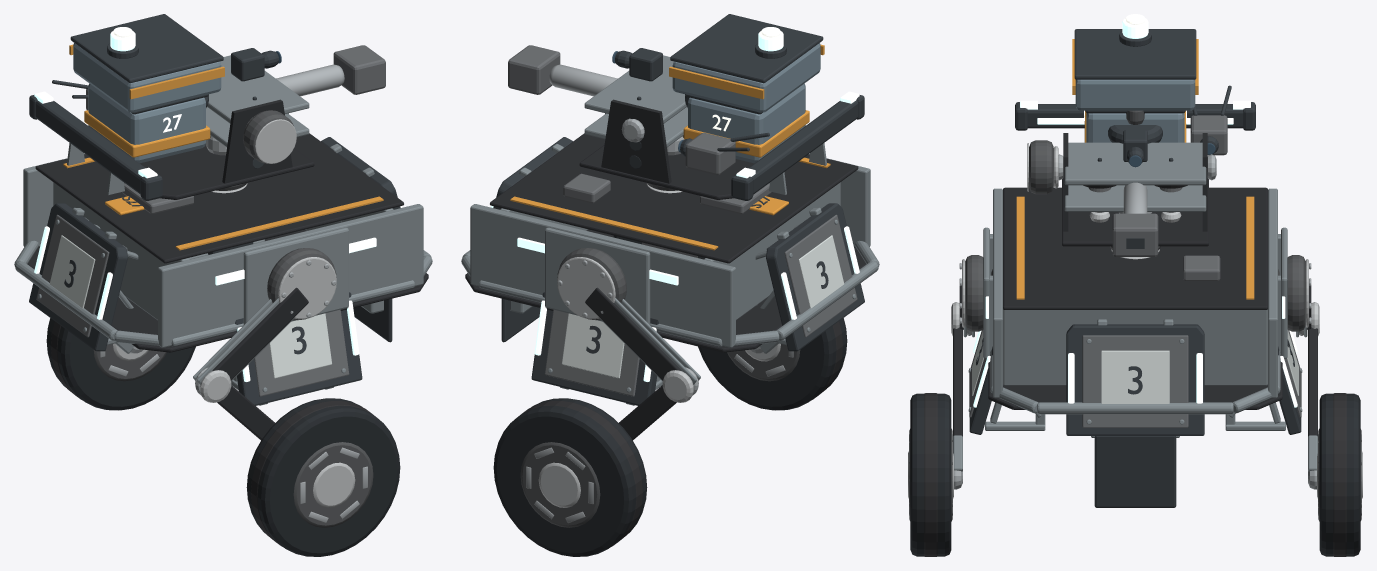
File: robot-2772-spec2027.glb
3 views of the same model, side by side, from view 1: azimuth 30°, elevation 25°; view 2: azimuth 150°, elevation 25°; view 3: azimuth 270°, elevation 25° (orthographic). The views are drawn at different scales.
Parts seen in each view (by area): view 1: Chassis_RobotMatteAluminum, Chassis_CarbonPlate, Tyre, Magazine_TeamPrimaryShell, Turret_CarbonPlate, Magazine_RobotMatteGraphite, Tyre.001, Turret_RobotMatteGraphite, GunPitch_RobotMatteAluminum, ArmorModuleBody.002, HubMotor, ArmorHitFace.002 (+27 smaller); view 2: Chassis_RobotMatteAluminum, Chassis_CarbonPlate, Tyre.001, Magazine_TeamPrimaryShell, Turret_CarbonPlate, Magazine_RobotMatteGraphite, Tyre, Turret_RobotMatteGraphite, GunPitch_RobotMatteAluminum, ArmorModuleBody.002, HubMotor.001, ArmorHitFace.002 (+27 smaller); view 3: Chassis_CarbonPlate, Chassis_RobotMatteAluminum, GunPitch_RobotMatteAluminum, Magazine_RobotMatteGraphite, Chassis_RobotMatteGraphite, Magazine_TeamPrimaryShell, ArmorHitFace, ArmorModuleBody, Tyre, Tyre.001, Turret_CarbonPlate, ArmorSticker (+19 smaller).
Part boxes in pixels (x1=…): Chassis_RobotMatteAluminum: x1=14, y1=113, x2=432, y2=347; Chassis_CarbonPlate: x1=27, y1=133, x2=428, y2=352; Tyre: x1=246, y1=398, x2=400, y2=556; Magazine_TeamPrimaryShell: x1=73, y1=43, x2=221, y2=163; Turret_CarbonPlate: x1=140, y1=99, x2=314, y2=199; Magazine_RobotMatteGraphite: x1=70, y1=14, x2=223, y2=114; Tyre.001: x1=46, y1=318, x2=195, y2=410; Turret_RobotMatteGraphite: x1=29, y1=80, x2=263, y2=200; GunPitch_RobotMatteAluminum: x1=206, y1=55, x2=309, y2=147; ArmorModuleBody.002: x1=29, y1=203, x2=127, y2=351; HubMotor: x1=293, y1=442, x2=373, y2=527; ArmorHitFace.002: x1=36, y1=214, x2=109, y2=337; Chassis_RobotMatteAluminum: x1=461, y1=113, x2=879, y2=347; Chassis_CarbonPlate: x1=465, y1=133, x2=866, y2=352; Tyre.001: x1=493, y1=398, x2=647, y2=556; Magazine_TeamPrimaryShell: x1=672, y1=43, x2=820, y2=163; Turret_CarbonPlate: x1=579, y1=99, x2=753, y2=199; Magazine_RobotMatteGraphite: x1=670, y1=14, x2=823, y2=114; Tyre: x1=698, y1=318, x2=847, y2=410; Turret_RobotMatteGraphite: x1=629, y1=95, x2=864, y2=200; GunPitch_RobotMatteAluminum: x1=584, y1=55, x2=687, y2=147; ArmorModuleBody.002: x1=766, y1=203, x2=864, y2=351; HubMotor.001: x1=520, y1=442, x2=600, y2=527; ArmorHitFace.002: x1=784, y1=214, x2=857, y2=337; Chassis_CarbonPlate: x1=988, y1=187, x2=1282, y2=409; Chassis_RobotMatteAluminum: x1=983, y1=188, x2=1287, y2=414; GunPitch_RobotMatteAluminum: x1=1064, y1=142, x2=1206, y2=211; Magazine_RobotMatteGraphite: x1=1074, y1=29, x2=1196, y2=113; Chassis_RobotMatteGraphite: x1=1094, y1=436, x2=1176, y2=507; Magazine_TeamPrimaryShell: x1=1075, y1=79, x2=1195, y2=142; ArmorHitFace: x1=1082, y1=335, x2=1188, y2=427; ArmorModuleBody: x1=1066, y1=324, x2=1204, y2=435; Tyre: x1=910, y1=393, x2=951, y2=556; Tyre.001: x1=1319, y1=393, x2=1360, y2=556; Turret_CarbonPlate: x1=1062, y1=133, x2=1208, y2=246; ArmorSticker: x1=1101, y1=350, x2=1169, y2=403.
Size of the model in its own units: 0.4681 by 0.6495 by 0.556.
